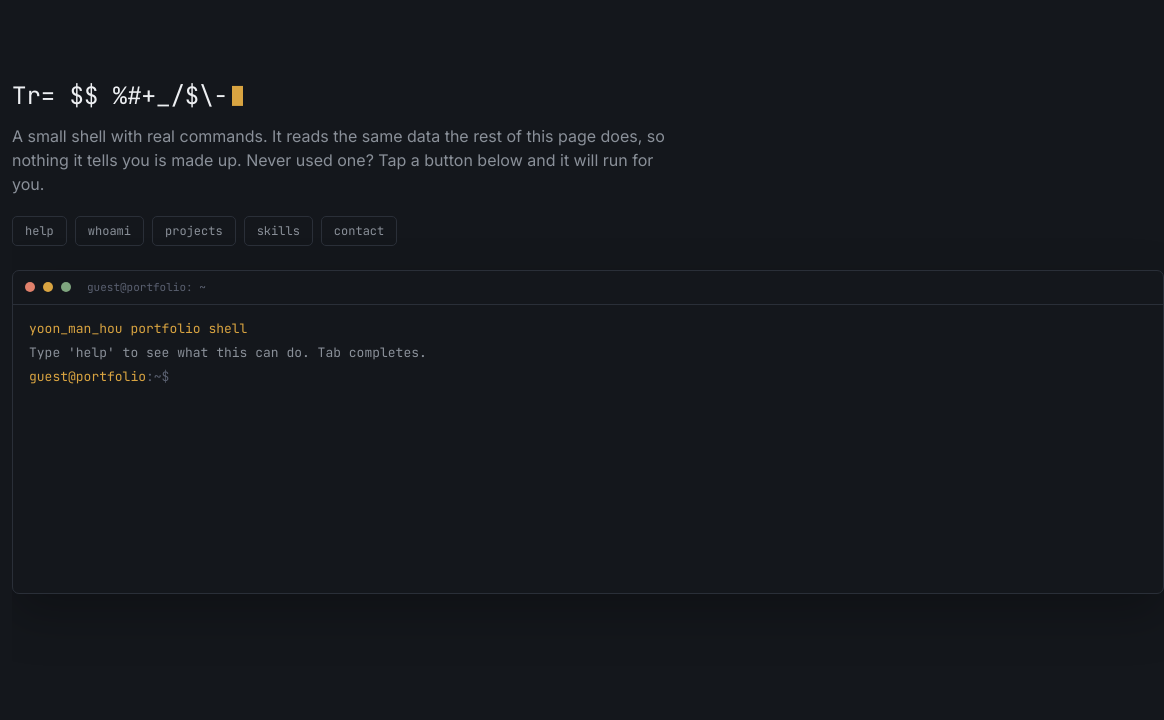
Scenario: TerminalDemo › reports an unknown command instead of failing silently
The image size is (1164, 720).
Click the field named "terminal input" at [658, 376], box x1=169 y1=364 x2=1147 y2=388
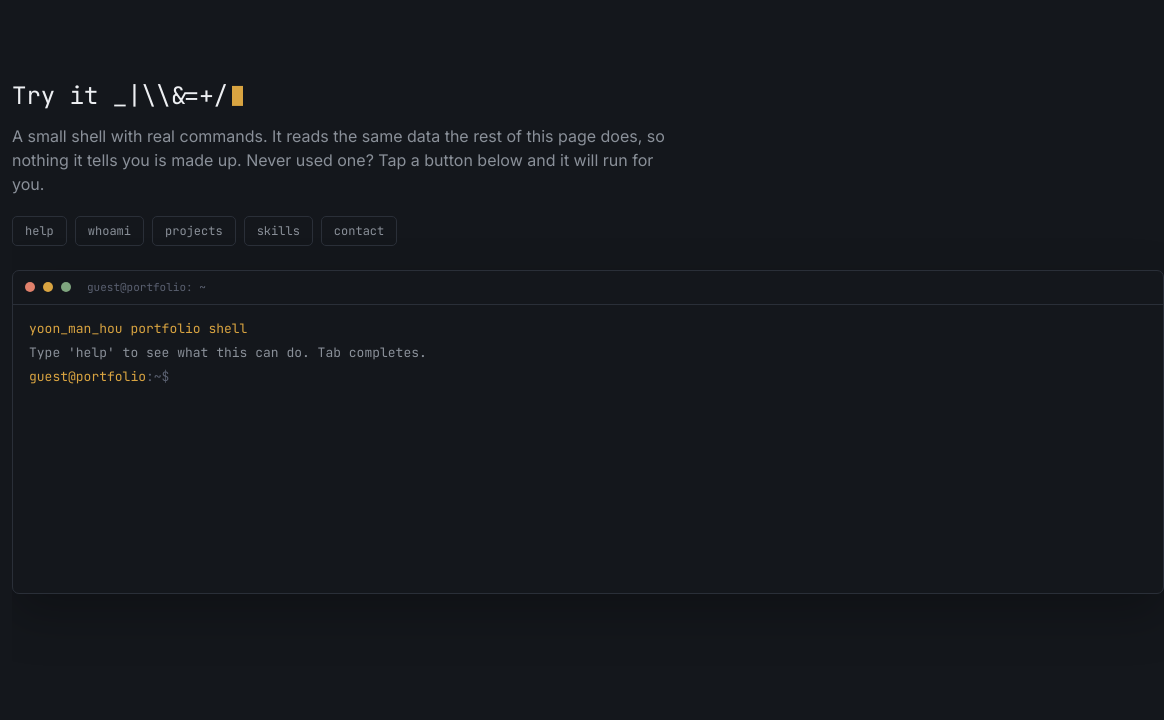
Type keys "dance{Enter}"
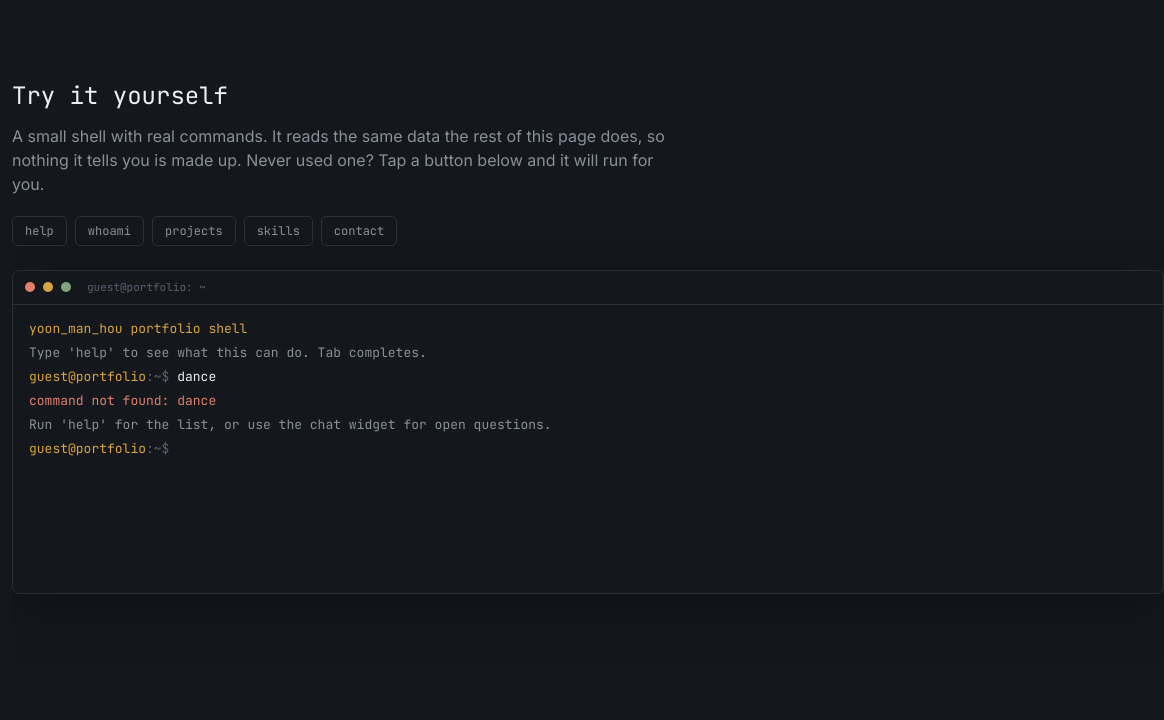
Expected: the text "command not found: dance" is shown, x1=29 y1=392 x2=216 y2=408
